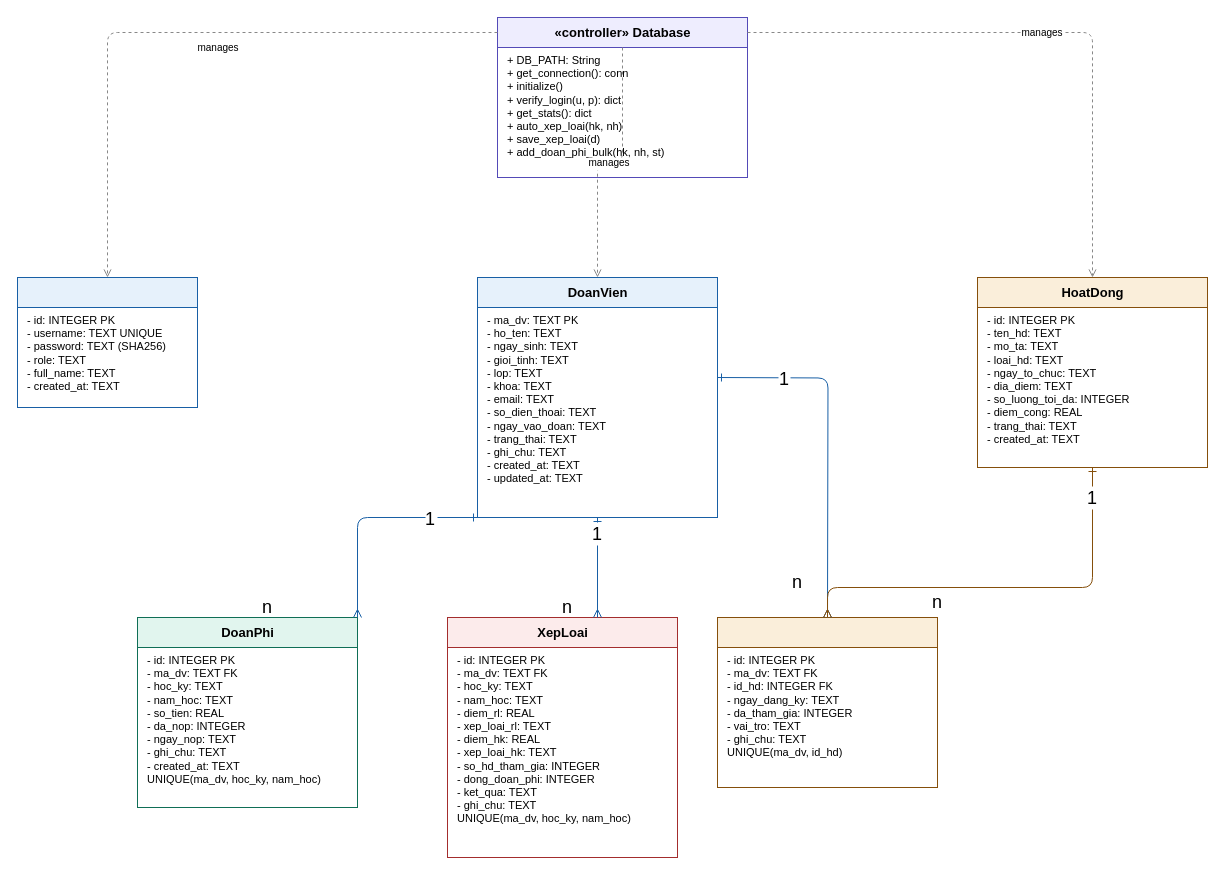
This 1225x875 diagram has some shape labels left out. The shapes that lost their labels are listed below. From the top down, each one's centre as x and y in pixels, then its label:
At [107,292]: "Users".
At [827,632]: "ThamGiaHD".
